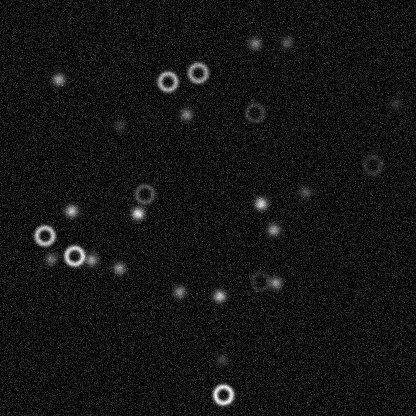Ring: (360, 152, 384, 176), (155, 69, 179, 93), (32, 223, 56, 247), (211, 382, 235, 406), (248, 269, 272, 293), (185, 60, 209, 84), (62, 243, 86, 267), (242, 100, 266, 124), (132, 181, 156, 205)
Spot: (278, 34, 294, 50), (50, 71, 66, 87), (111, 117, 127, 133), (246, 35, 262, 51), (111, 260, 127, 276), (42, 250, 58, 266), (129, 205, 145, 221), (211, 287, 227, 303), (178, 106, 194, 122), (171, 283, 187, 299), (267, 274, 283, 290), (252, 195, 268, 211), (387, 95, 403, 111), (213, 351, 229, 367), (63, 202, 79, 218), (296, 183, 312, 199), (83, 251, 99, 267), (265, 221, 281, 237)
